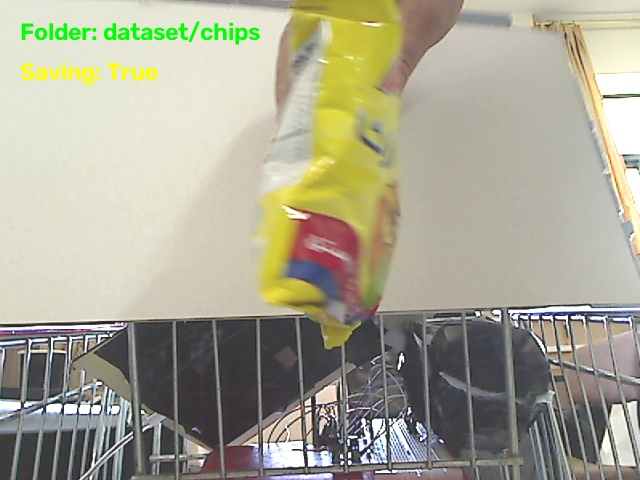chips: (256, 0, 401, 347)
